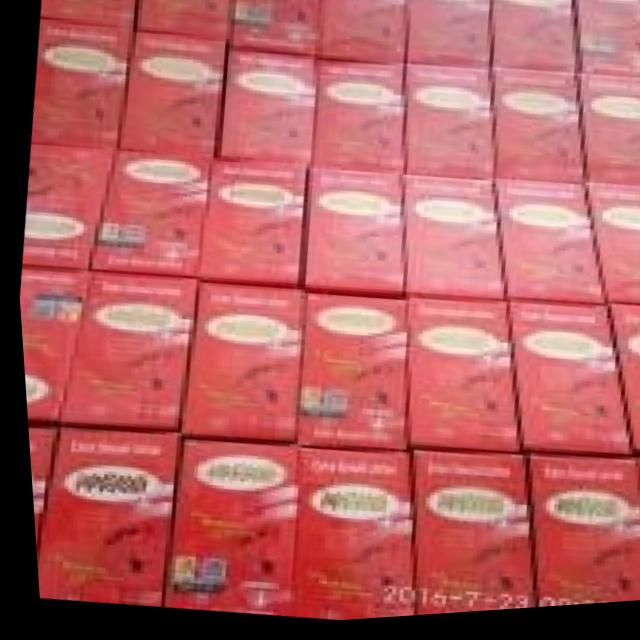box: (28, 427, 175, 608), (148, 438, 287, 620), (276, 448, 407, 624), (52, 273, 196, 429), (404, 452, 522, 621), (175, 282, 297, 445), (502, 306, 625, 463), (291, 294, 403, 458), (516, 459, 628, 614), (404, 303, 513, 456), (88, 149, 207, 279), (114, 34, 225, 161), (197, 163, 303, 288), (493, 188, 599, 309), (33, 23, 132, 149), (400, 183, 498, 306), (303, 175, 400, 297), (19, 145, 114, 269), (215, 51, 313, 169), (16, 267, 88, 422), (307, 65, 402, 180), (400, 72, 489, 188), (493, 74, 578, 193), (583, 190, 640, 315), (406, 0, 491, 77), (580, 85, 640, 192), (492, 0, 573, 78), (317, 0, 405, 69), (228, 0, 321, 61), (603, 315, 640, 461), (575, 5, 640, 87), (136, 0, 235, 42), (22, 428, 51, 540), (40, 0, 133, 28)
